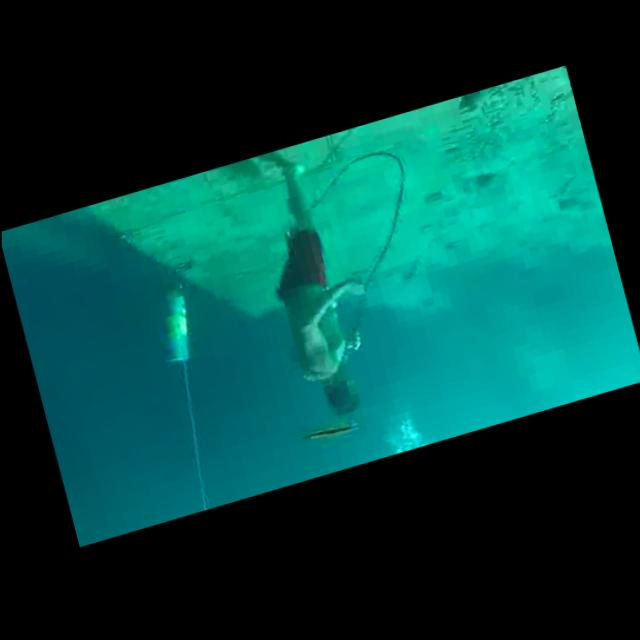human: (232, 139, 401, 437)
